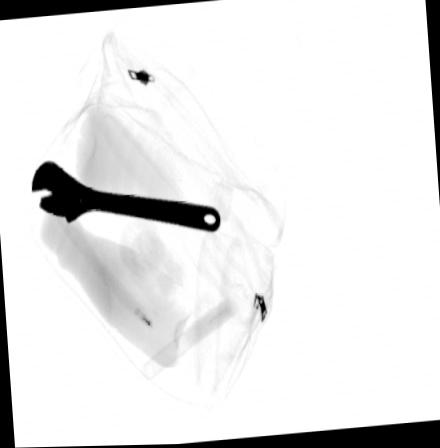Wrench: (29, 159, 223, 233)
